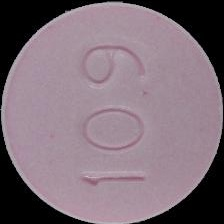54868-2844: (0, 0, 224, 224)
